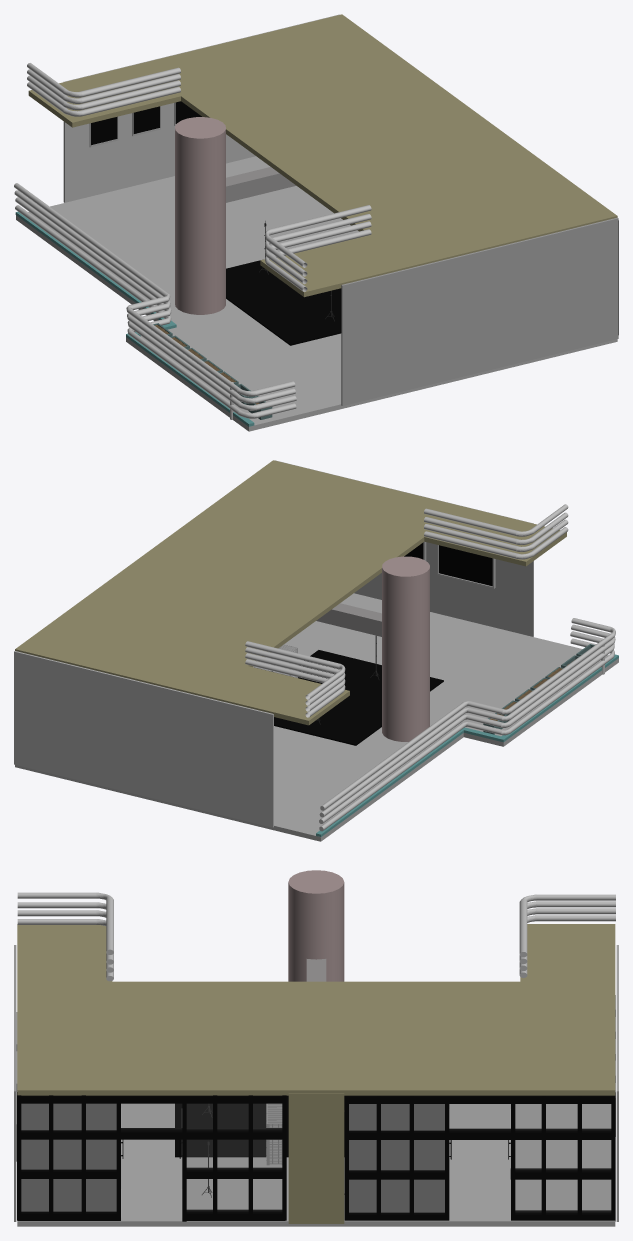
File: DaTing.fbx
3 renders of one model, top to bottom at view 1: azimuth 30°, elevation 25°; view 2: azimuth 150°, elevation 25°; view 3: azimuth 270°, elevation 25°, orthographic. The views are drawn at different scales.
Parts seen in each view (by area): view 1: pasted__pCube1, pCube5, pCube1, pCylinder1, pasted__pCube5, pasted__pasted__pasted__pasted__pCylinder2 (×3), pCube3, pasted__pasted__pasted__pasted__pasted__pasted__pasted__pCyl (×4), pasted__pasted__pasted__pasted__pasted__pasted__pCylinder2 (×4), pasted__pasted__pasted__pCylinder2, pCube2, pasted__pCube4 (+3 smaller); view 2: pasted__pCube1, pasted__pCube5, pCube1, pCylinder1, pasted__pasted__pasted__pasted__pCylinder2 (×3), pCube5, pCube3, pasted__pasted__pasted__pasted__pasted__pasted__pCylinder2 (×4), pasted__pasted__pasted__pasted__pasted__pasted__pasted__pCyl (×4), pasted__pasted__pasted__pCylinder2, pasted__transform1, pCube2 (+2 smaller); view 3: pasted__pCube1, pasted__pCube3Sh1, pCube1, pasted__pCube3Sh, pasted__pasted__pCube2, pCylinder1, pCube3, pasted__pasted__pasted__pasted__pasted__pasted__pasted__pCyl (×4), pasted__pasted__pasted__pasted__pasted__pasted__pCylinder2 (×4), transform483, pCube5, pasted__pCube5.
Boxes of the visible parts, x1=… form: pasted__pCube1: x1=28, y1=14, x2=617, y2=297; pCube5: x1=341, y1=217, x2=618, y2=405; pCube1: x1=16, y1=156, x2=617, y2=431; pCylinder1: x1=175, y1=117, x2=225, y2=314; pasted__pCube5: x1=63, y1=14, x2=339, y2=202; pasted__pasted__pasted__pasted__pCylinder2 (×3): x1=14, y1=183, x2=296, y2=418; pCube3: x1=226, y1=260, x2=341, y2=345; pasted__pasted__pasted__pasted__pasted__pasted__pasted__pCyl (×4): x1=27, y1=63, x2=371, y2=267; pasted__pasted__pasted__pasted__pasted__pasted__pCylinder2 (×4): x1=27, y1=75, x2=371, y2=291; pasted__pasted__pasted__pCylinder2: x1=14, y1=190, x2=295, y2=403; pCube2: x1=226, y1=167, x2=296, y2=202; pasted__pCube4: x1=15, y1=211, x2=172, y2=322; pasted__pCube1: x1=15, y1=460, x2=566, y2=725; pasted__pCube5: x1=14, y1=651, x2=273, y2=827; pCube1: x1=15, y1=593, x2=618, y2=841; pCylinder1: x1=382, y1=556, x2=429, y2=741; pasted__pasted__pasted__pasted__pCylinder2 (×3): x1=319, y1=618, x2=615, y2=831; pCube5: x1=275, y1=460, x2=533, y2=636; pCube3: x1=274, y1=650, x2=443, y2=745; pasted__pasted__pasted__pasted__pasted__pasted__pCylinder2 (×4): x1=245, y1=512, x2=568, y2=711; pasted__pasted__pasted__pasted__pasted__pasted__pasted__pCyl (×4): x1=245, y1=504, x2=568, y2=717; pasted__pasted__pasted__pCylinder2: x1=319, y1=624, x2=615, y2=817; pasted__transform1: x1=437, y1=545, x2=495, y2=588; pCube2: x1=316, y1=603, x2=381, y2=636; pasted__pCube1: x1=17, y1=924, x2=615, y2=1095; pasted__pCube3Sh1: x1=344, y1=1092, x2=615, y2=1221; pCube1: x1=17, y1=1103, x2=615, y2=1226; pasted__pCube3Sh: x1=17, y1=1092, x2=286, y2=1221; pasted__pasted__pCube2: x1=288, y1=1093, x2=344, y2=1223; pCylinder1: x1=288, y1=870, x2=344, y2=981; pCube3: x1=175, y1=1095, x2=344, y2=1157; pasted__pasted__pasted__pasted__pasted__pasted__pasted__pCyl (×4): x1=17, y1=892, x2=615, y2=977; pasted__pasted__pasted__pasted__pasted__pasted__pCylinder2 (×4): x1=17, y1=902, x2=615, y2=981; transform483: x1=266, y1=1103, x2=282, y2=1165; pCube5: x1=14, y1=945, x2=16, y2=1221; pasted__pCube5: x1=616, y1=945, x2=618, y2=1221.
Bounding box in the file's own units: 23.84 × 11.05 × 30.79.
